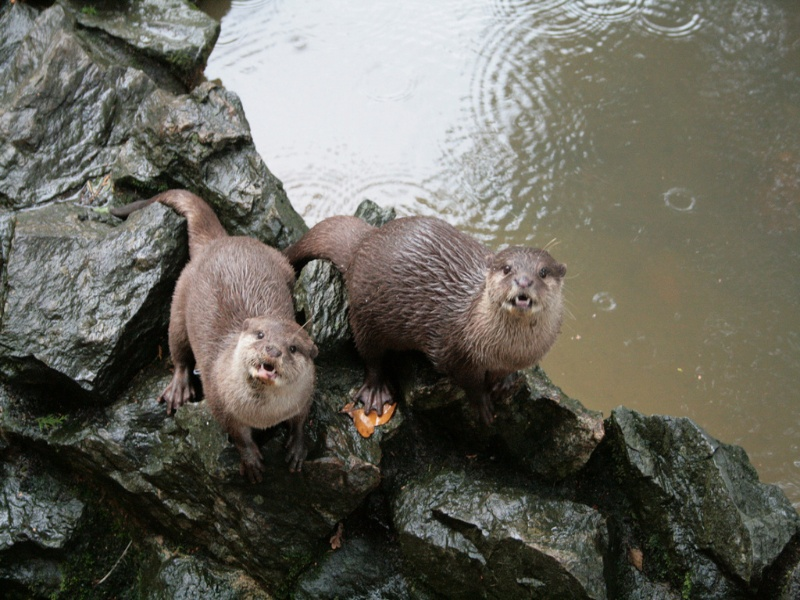minkish: (290, 208, 574, 432), (140, 180, 317, 490)
